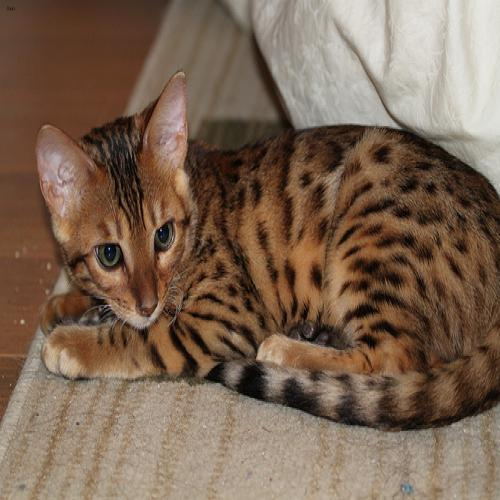bengal: (20, 55, 224, 351)
